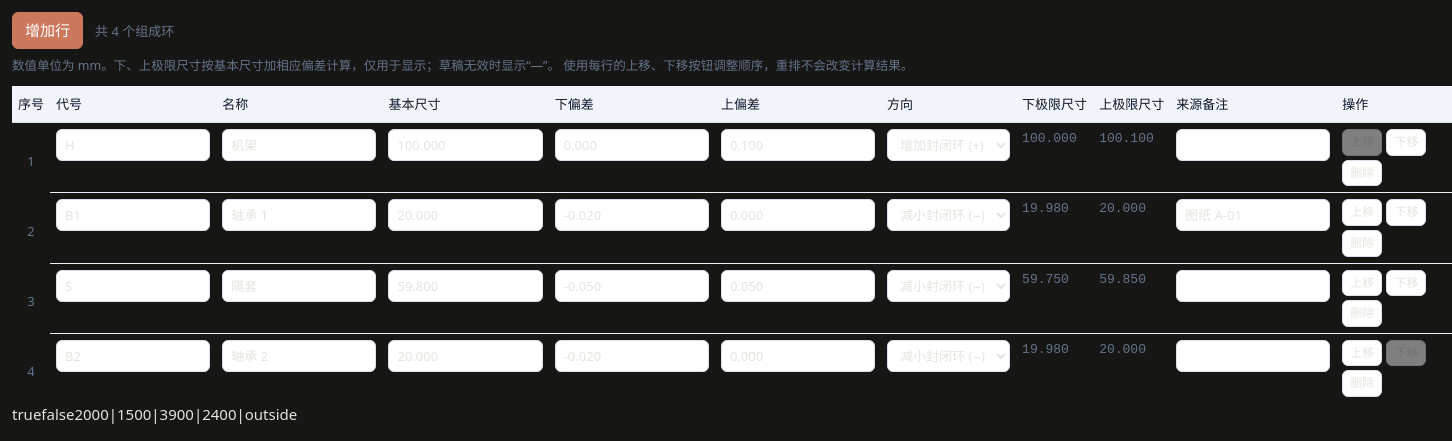
DimensionTable：逐格错误 › 无效数值加 aria-invalid，并通过 aria-describedby 关联错误文案
Clear the field named "H 基本尺寸" at (466, 145), box 388,129 -> 543,161
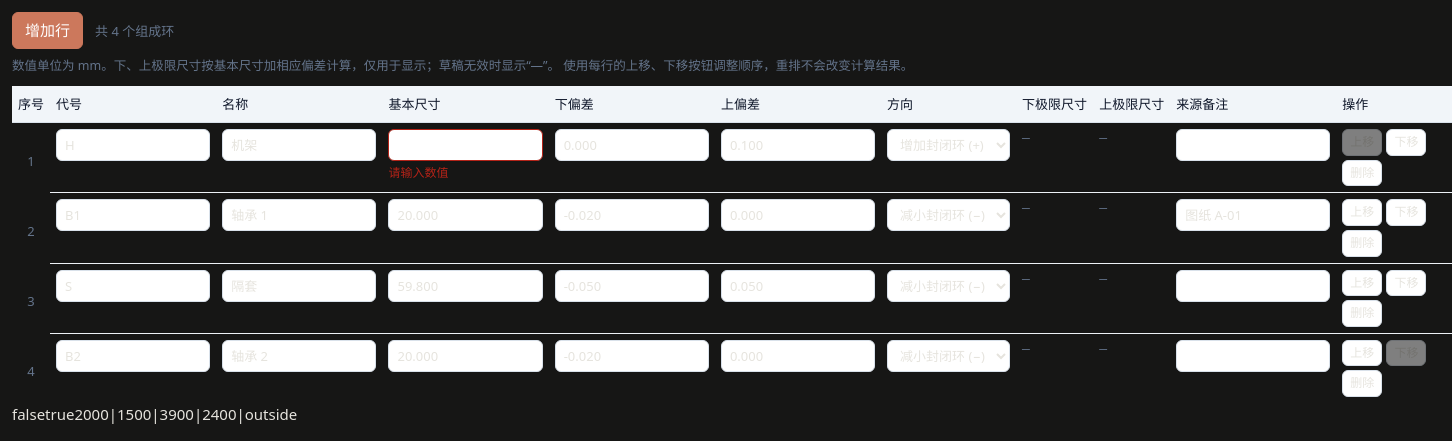
Check: the text "请输入数值" is shown, box 388,164 -> 448,181
Check: the text with test id "stale" reads "true", box 45,404 -> 74,424
Check: the cell named "H 下极限尺寸" reads "—", box 1022,131 -> 1030,146
